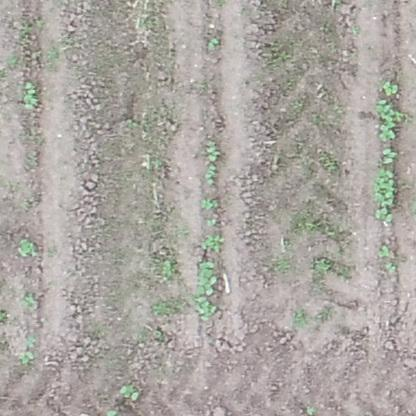vc: (373, 167, 400, 224), (196, 259, 217, 321), (376, 100, 402, 141), (19, 79, 40, 112), (16, 236, 37, 259), (203, 139, 223, 162), (379, 146, 400, 166), (203, 165, 220, 187), (382, 78, 401, 97), (120, 385, 141, 402), (199, 196, 220, 211), (204, 35, 221, 50), (377, 244, 391, 258), (19, 351, 34, 364), (384, 262, 399, 275)
